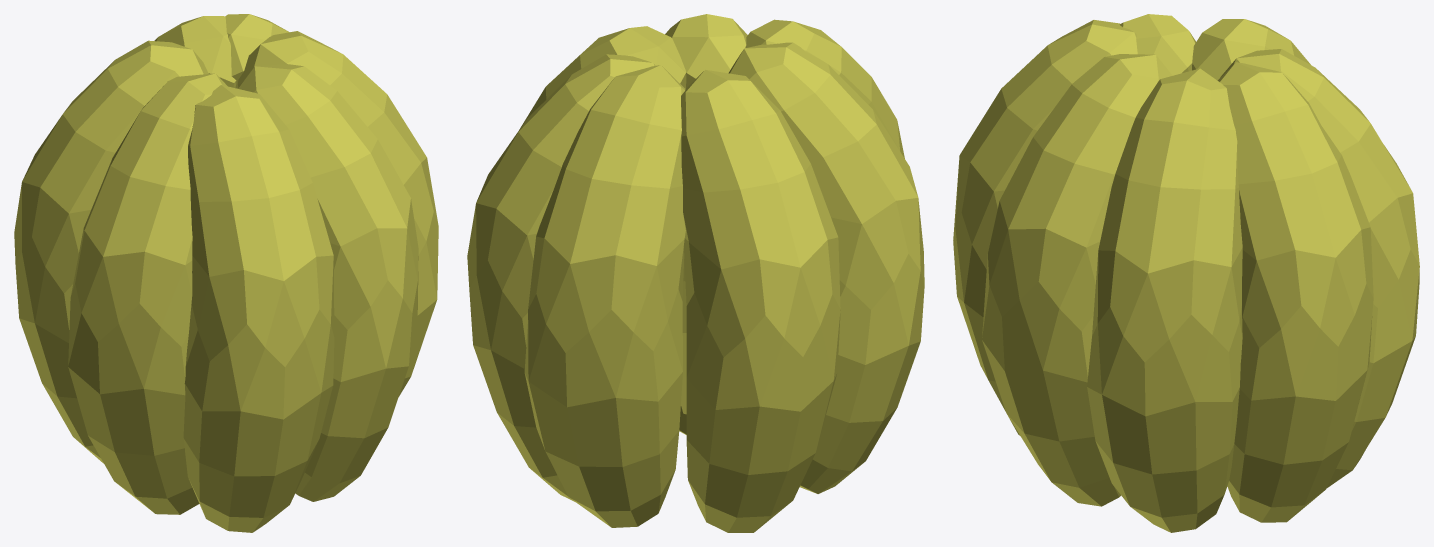
The model's file is Platanos.fbx.
The picture shows the model from 3 angles, left to right: view 1: azimuth 30°, elevation 25°; view 2: azimuth 150°, elevation 25°; view 3: azimuth 270°, elevation 25°; orthographic projection. The views are drawn at different scales.
Visible parts, largest first — view 1: Icosphere; view 2: Icosphere; view 3: Icosphere.
Part boxes in pixels (x1,y1,x2,y2): Icosphere: (14,14,438,532); Icosphere: (467,14,924,532); Icosphere: (953,14,1419,532).
Size of the model in its own units: 110 by 118 by 121.
